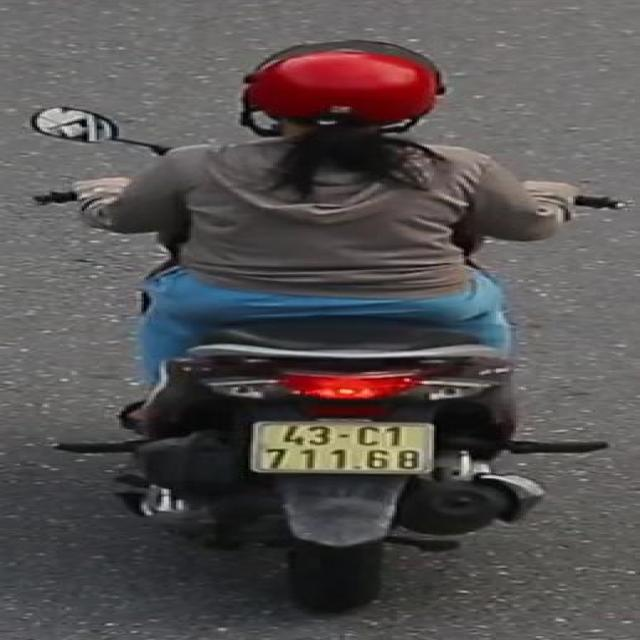LP: (242, 413, 443, 479)
helmet: (228, 31, 454, 156)
